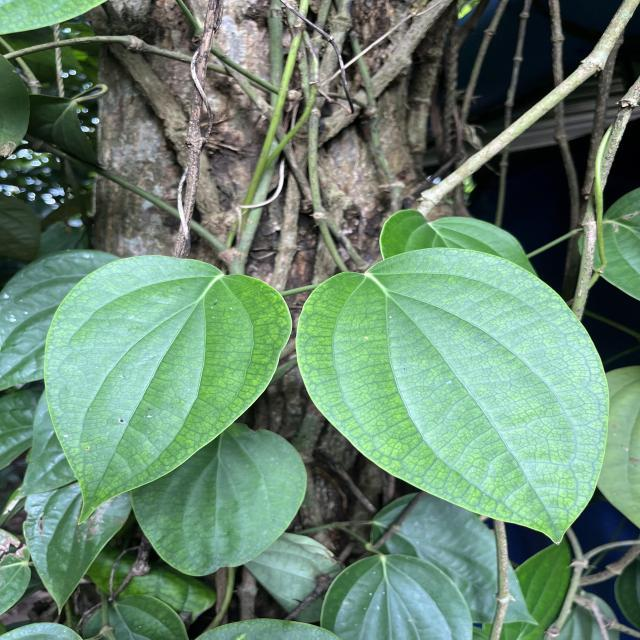Piper nigrum: (292, 244, 614, 546), (40, 252, 293, 528)
